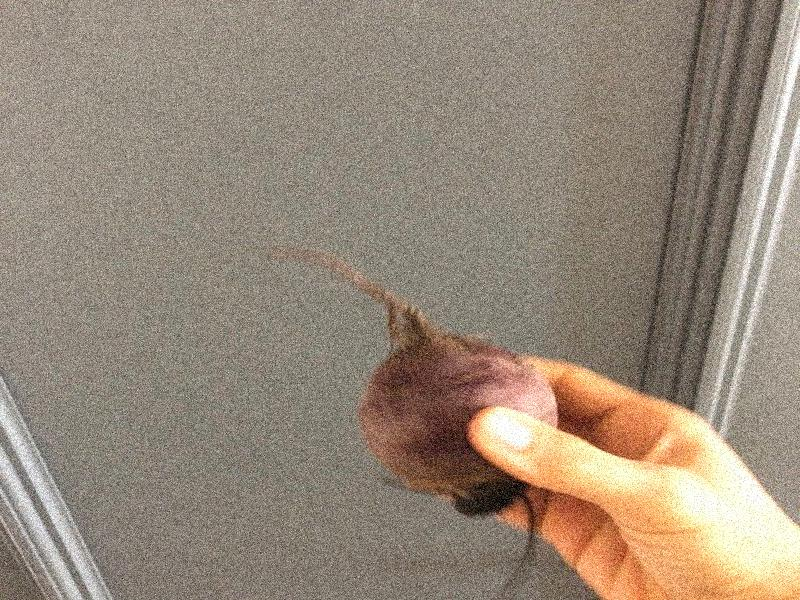Beet: (258, 247, 556, 600)
